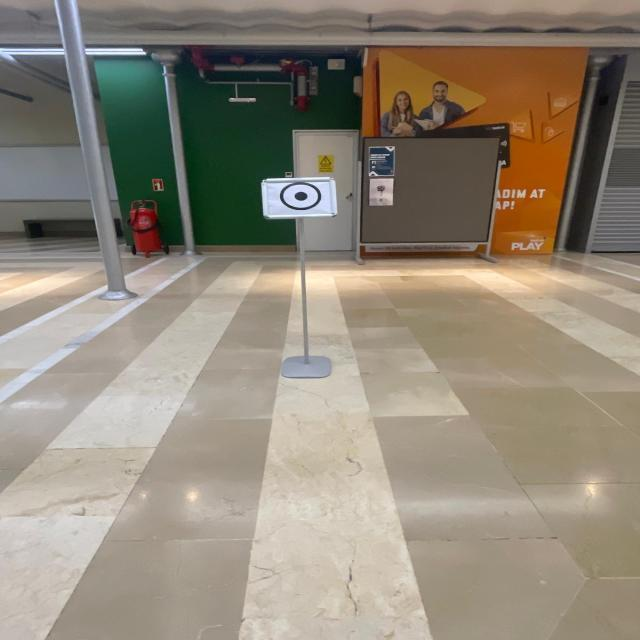Target: (251, 168, 351, 229)
inner: (291, 188, 312, 207)
